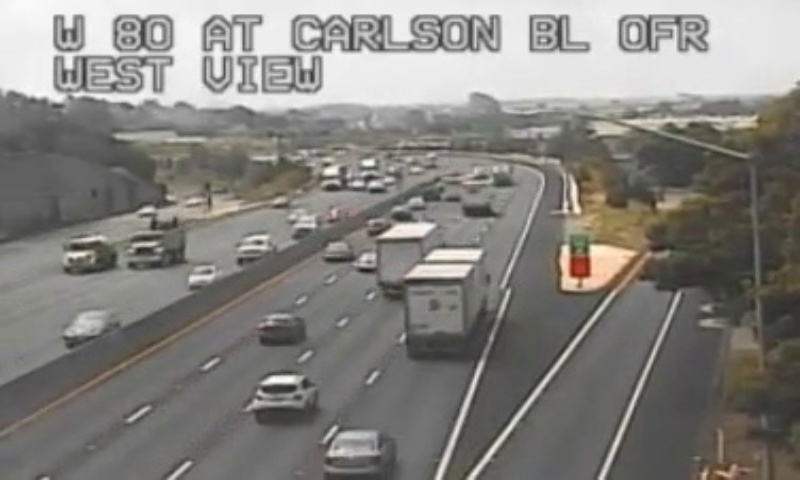car: (325, 431, 393, 474), (253, 373, 317, 413), (257, 313, 304, 344), (323, 241, 353, 261)
truck: (404, 245, 487, 353), (376, 221, 440, 297)
